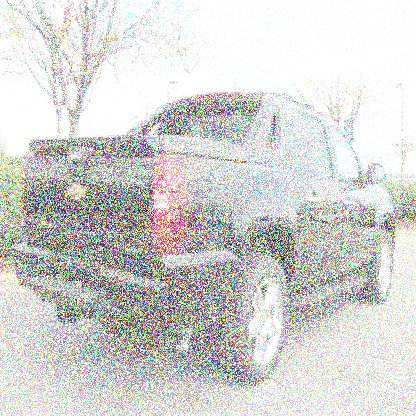Vehicle: (11, 84, 397, 398)
